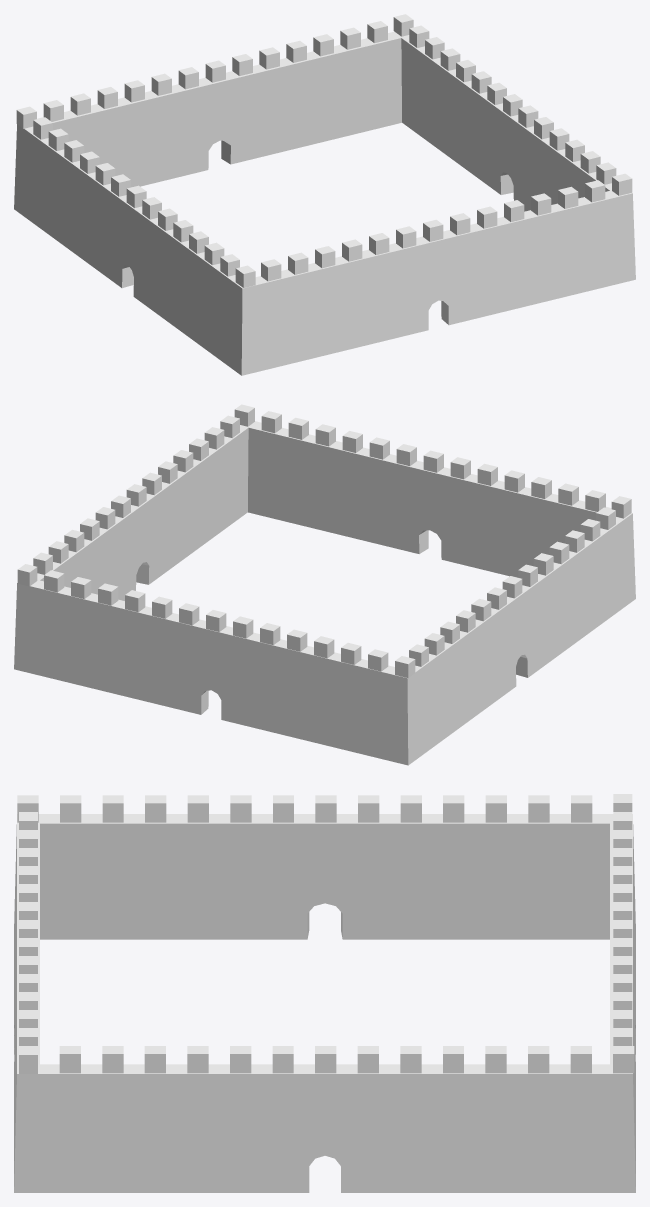
The model's file is City01.glb.
3 views of the same model, one above another, from view 1: azimuth 30°, elevation 25°; view 2: azimuth 150°, elevation 25°; view 3: azimuth 270°, elevation 25° (orthographic). The views are drawn at different scales.
Visible parts, largest first — view 1: City; view 2: City; view 3: City.
Boxes of the visible parts, <box> form: City: <box>14,14,635,375</box>; City: <box>14,404,635,765</box>; City: <box>14,794,635,1192</box>.
Bounding box in the file's own units: 2.4 × 0.582 × 2.4.
Materials: 1 (1 with a texture image).
